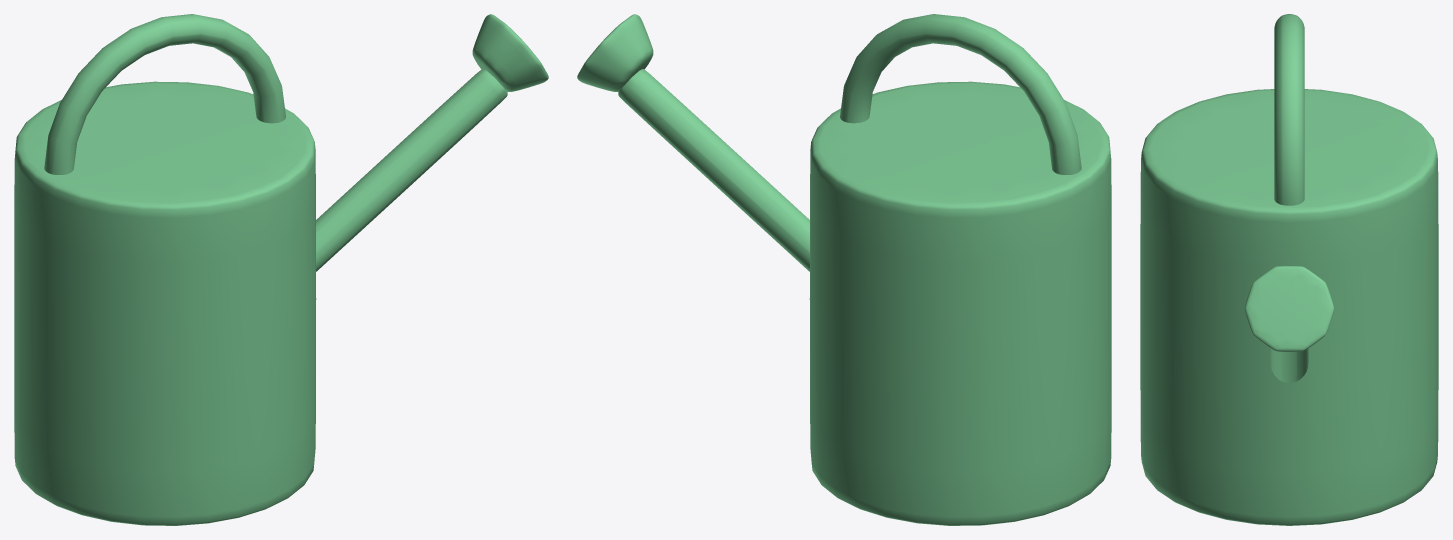
Rendered from watering_can.glb.
The picture shows the model from 3 angles, left to right: view 1: azimuth 30°, elevation 25°; view 2: azimuth 150°, elevation 25°; view 3: azimuth 270°, elevation 25°; orthographic projection.
Parts seen in each view (by area): view 1: watering_can; view 2: watering_can; view 3: watering_can.
Boxes of the visible parts, x1,y1,x2,y2 form: watering_can: (14, 14, 548, 525); watering_can: (577, 14, 1111, 525); watering_can: (1140, 14, 1438, 525).
Size of the model in its own units: 0.8185 by 0.6922 by 0.4253.
